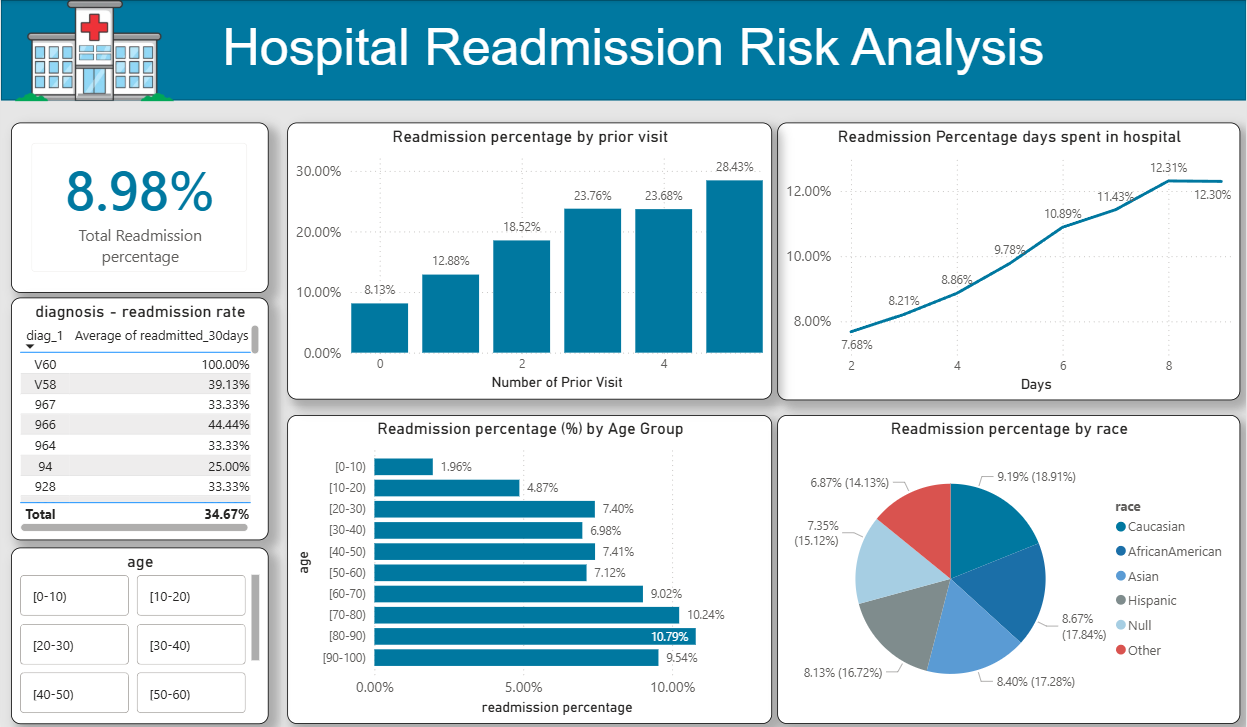

This screenshot's page, from the dashboard's own definition file:
{"tool":"powerbi","page":{"name":"Page 1","canvas":[1280,754],"ordinal":0},"visuals":[{"type":"cardVisual","fields":{"Data":["Avg(diabetic_cleaned_v1.readmitted_30days)"]},"box":[10.7,125.6,264.6,175],"z":0},{"type":"clusteredBarChart","title":"Readmission percentage (%) by Age Group","fields":{"Category":["diabetic_cleaned_v1.age"],"Y":["Avg(diabetic_cleaned_v1.readmitted_30days)"]},"box":[293.9,426.2,498.4,318],"z":1000},{"type":"lineChart","title":"Readmission Percentage days spent in hospital","fields":{"Y":["Avg(diabetic_cleaned_v1.readmitted_30days)"],"Category":["diabetic_cleaned_v1.time_in_hospital"]},"box":[797.7,125.6,475.7,285.9],"z":2000},{"type":"clusteredColumnChart","title":"Readmission percentage by prior visit","fields":{"Y":["Avg(diabetic_cleaned_v1.readmitted_30days)"],"Category":["diabetic_cleaned_v1.number_inpatient"]},"box":[293.9,125.6,498.4,284.6],"z":3000},{"type":"tableEx","title":"diagnosis - readmission rate ","fields":{"Values":["diabetic_cleaned_v1.diag_1","Avg(diabetic_cleaned_v1.readmitted_30days)"]},"box":[10.7,306,264.6,249.9],"z":4000},{"type":"pieChart","title":"Readmission percentage by race","fields":{"Category":["diabetic_cleaned_v1.race"],"Y":["Avg(diabetic_cleaned_v1.readmitted_30days)"]},"box":[797.7,426.2,475.7,318],"z":5000},{"type":"advancedSlicerVisual","fields":{"Values":["diabetic_cleaned_v1.age"]},"box":[10.7,562.5,264.6,181.7],"z":6000},{"type":"group","id":"g1","title":"Group 1","box":[0,0,1280.3,104.2],"z":7000},{"type":"shape","box":[0,0,1280.3,103.1],"z":7000,"group":"g1"},{"type":"image","box":[0,0,192.4,104.2],"z":8000},{"type":"textbox","box":[204.4,13.4,891.2,90.9],"z":8002,"group":"g1"}]}

Visuals, with their boxes in screenshot pixels (x1, y1, x2, y2), scaled from the page's 1280x754 canvas onto the 1247x727 screenshot:
cardVisual - Avg(diabetic_cleaned_v1.readmitted_30days): x1=10 y1=121 x2=268 y2=290
"Readmission percentage (%) by Age Group" clusteredBarChart: x1=286 y1=411 x2=772 y2=718
"Readmission Percentage days spent in hospital" lineChart: x1=777 y1=121 x2=1241 y2=397
"Readmission percentage by prior visit" clusteredColumnChart: x1=286 y1=121 x2=772 y2=396
"diagnosis - readmission rate " tableEx: x1=10 y1=295 x2=268 y2=536
"Readmission percentage by race" pieChart: x1=777 y1=411 x2=1241 y2=718
advancedSlicerVisual - diabetic_cleaned_v1.age: x1=10 y1=542 x2=268 y2=718
"Group 1" group: x1=0 y1=0 x2=1246 y2=100
shape: x1=0 y1=0 x2=1246 y2=99
image: x1=0 y1=0 x2=187 y2=100
textbox: x1=199 y1=13 x2=1067 y2=101
